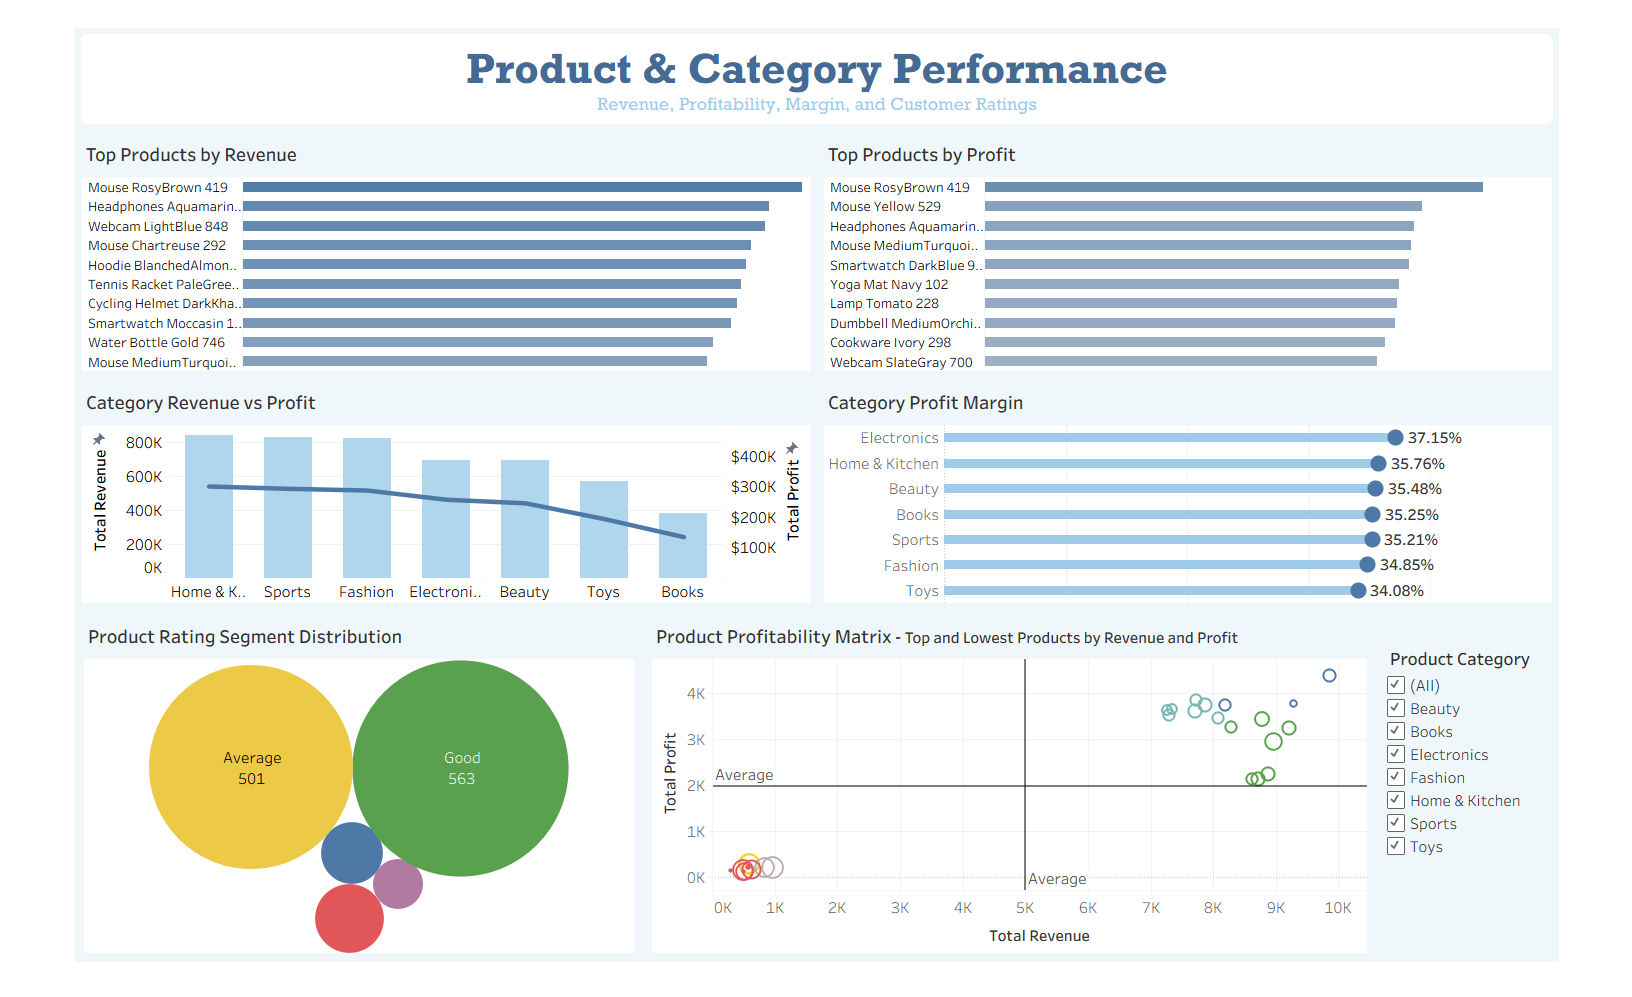

The dashboard page shown, as its layout file describes it:
{"tool":"tableau","page":{"name":"Product & Category Performance","canvas":[1500,950],"ordinal":3},"visuals":[{"type":"text","box":[8,8,1484,102]},{"type":"worksheet","title":"Product Performance by Revenue","mark":"Bar","rows":["product_name"],"cols":["total_revenue"],"box":[8,110,742,248]},{"type":"worksheet","title":"Product Performance  by Profit","mark":"Bar","rows":["product_name"],"cols":["total_profit"],"box":[750,110,742,248]},{"type":"worksheet","title":"Category Revenue vs Profit","mark":"Bar","rows":["total_revenue","total_profit"],"cols":["product_category"],"box":[8,358,742,232]},{"type":"worksheet","title":"Category Profit Margin","mark":"Automatic","rows":["product_category"],"cols":["profit_margin_pct","profit_margin_pct"],"box":[750,358,742,232]},{"type":"worksheet","title":"Rating Segment Bubble Chart","mark":"Circle","box":[8,590,568,352]},{"type":"worksheet","title":"Product Profitability Matrix","mark":"Automatic","rows":["total_profit"],"cols":["total_revenue"],"box":[576,590,733,352]},{"type":"blank","box":[1309,590,168,32]},{"type":"filter","title":"Product Profitability Matrix","param":"[federated.0lfa6yn0kexa4h1c8wau11hf5jd4].[none:product_category:nk]","box":[1309,622,168,320]}]}

Visuals, with their boxes on the page's 1500x950 design canvas (x1, y1, x2, y2). These are canvas units, not pixel positions in the 1632x997 screenshot, which may show the page scaled, cropped or inside an application window:
text: (left=8, top=8, right=1492, bottom=110)
"Product Performance by Revenue" worksheet (Bar marks): (left=8, top=110, right=750, bottom=358)
"Product Performance  by Profit" worksheet (Bar marks): (left=750, top=110, right=1492, bottom=358)
"Category Revenue vs Profit" worksheet (Bar marks): (left=8, top=358, right=750, bottom=590)
"Category Profit Margin" worksheet: (left=750, top=358, right=1492, bottom=590)
"Rating Segment Bubble Chart" worksheet (Circle marks): (left=8, top=590, right=576, bottom=942)
"Product Profitability Matrix" worksheet: (left=576, top=590, right=1309, bottom=942)
blank: (left=1309, top=590, right=1477, bottom=622)
"Product Profitability Matrix" filter: (left=1309, top=622, right=1477, bottom=942)
